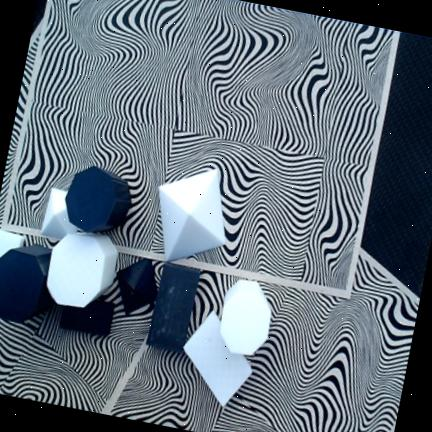Paralelepipedo: (183, 310, 253, 407), (146, 263, 200, 353), (60, 299, 115, 337), (0, 230, 25, 259)
Piramide: (158, 168, 226, 261), (117, 257, 158, 315), (40, 187, 78, 239)
Prisma_hexagonal: (47, 234, 117, 307), (65, 166, 132, 233), (0, 246, 55, 323), (219, 279, 272, 356)
